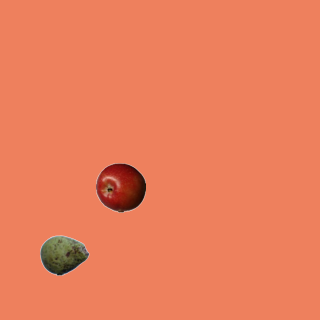Apple Braeburn: (95, 162, 145, 212)
Pear Stone: (39, 230, 89, 280)
